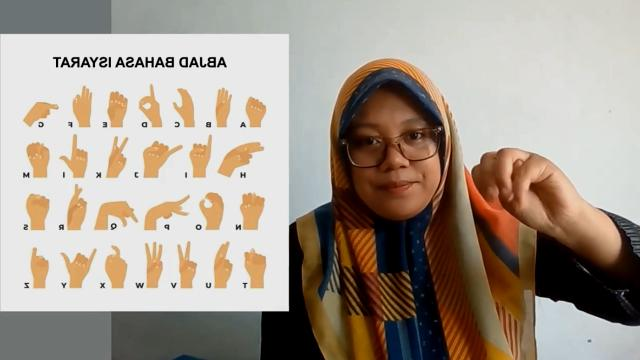M: (471, 144, 575, 232)
